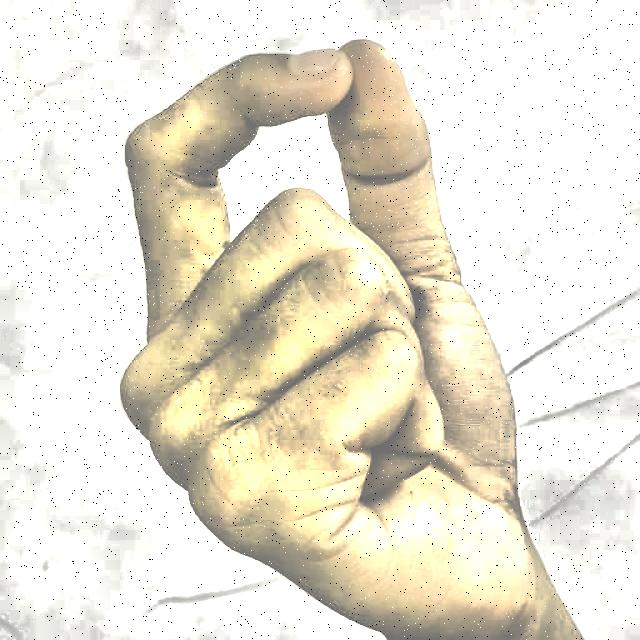Gha: (57, 26, 584, 634)
